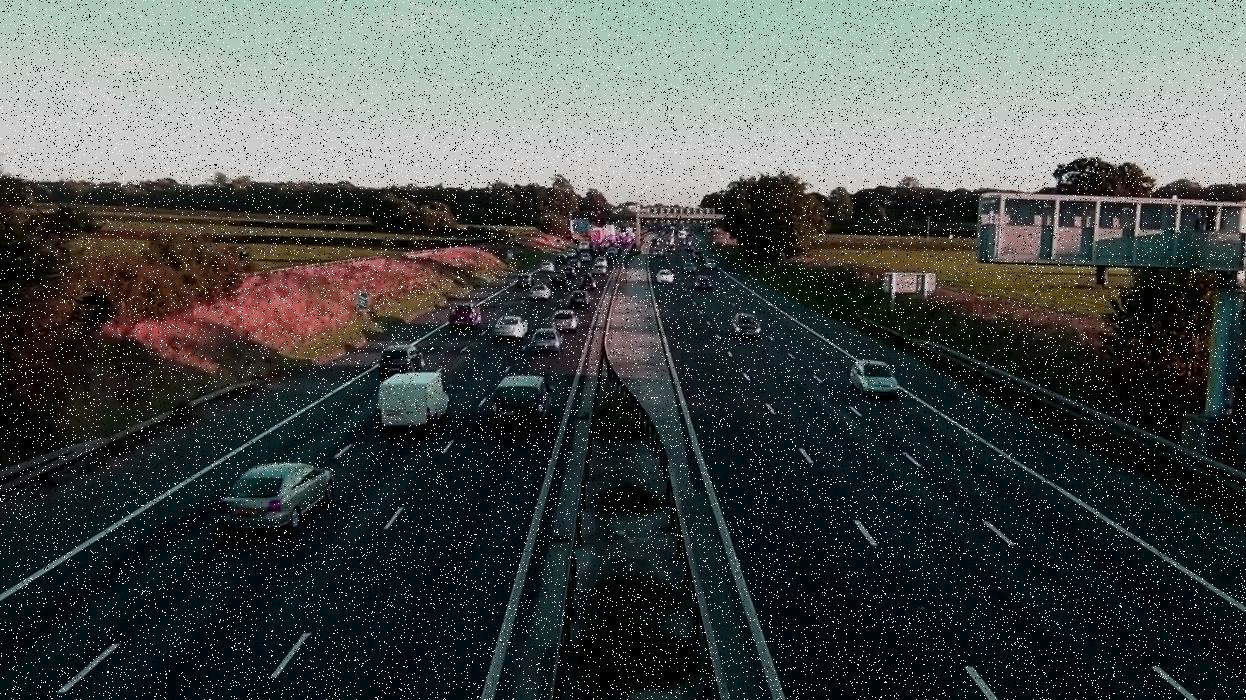car: (221, 462, 340, 527), (373, 374, 449, 432), (486, 377, 549, 432), (849, 359, 902, 399), (522, 329, 560, 355), (491, 317, 528, 342), (449, 304, 484, 327), (730, 315, 761, 340), (381, 344, 412, 369), (556, 311, 580, 331), (569, 291, 591, 308), (529, 284, 551, 301), (695, 277, 716, 292), (517, 272, 533, 287), (657, 269, 675, 282)
